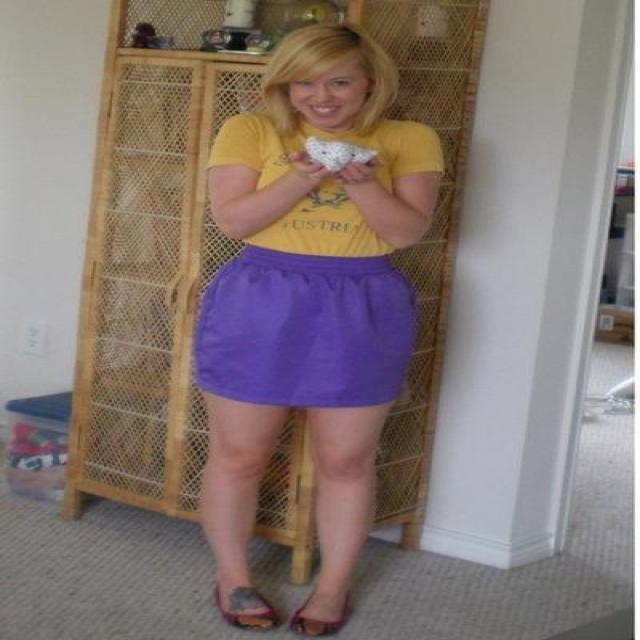shirt: (200, 115, 443, 256)
shoe: (221, 593, 344, 639)
skirt: (192, 245, 418, 408)
